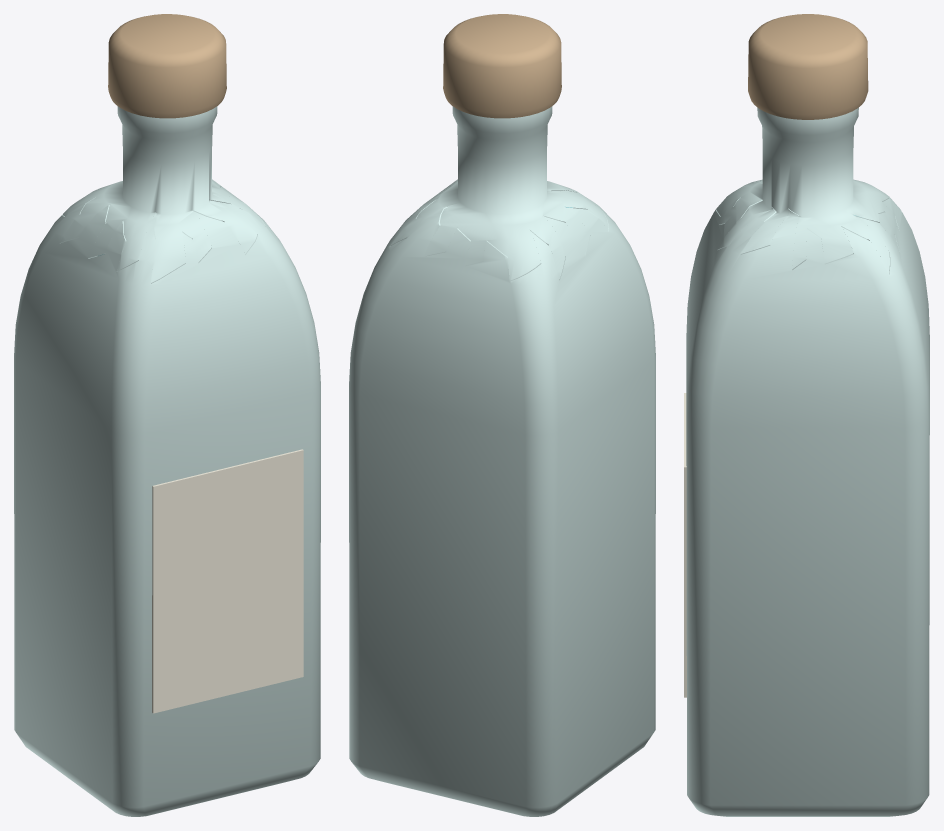
File: container_square_broken.glb
The picture shows the model from 3 angles, left to right: view 1: azimuth 30°, elevation 25°; view 2: azimuth 150°, elevation 25°; view 3: azimuth 270°, elevation 25°; orthographic projection.
Visible parts, largest first — view 1: Glass.001, Label, Neck, Cap; view 2: Glass.001, Neck, Cap; view 3: Glass.001, Neck, Cap, Label.
Part boxes in pixels (x1,y1,x2,y2): Glass.001: (14, 186, 320, 816); Label: (152, 449, 303, 713); Neck: (60, 106, 265, 282); Cap: (108, 14, 226, 118); Glass.001: (349, 179, 655, 816); Neck: (390, 106, 608, 280); Cap: (443, 14, 561, 118); Glass.001: (686, 180, 929, 816); Neck: (716, 107, 900, 273); Cap: (748, 14, 868, 119); Label: (684, 393, 686, 697).
Size of the model in its own units: 0.0719 by 0.2415 by 0.0725.
